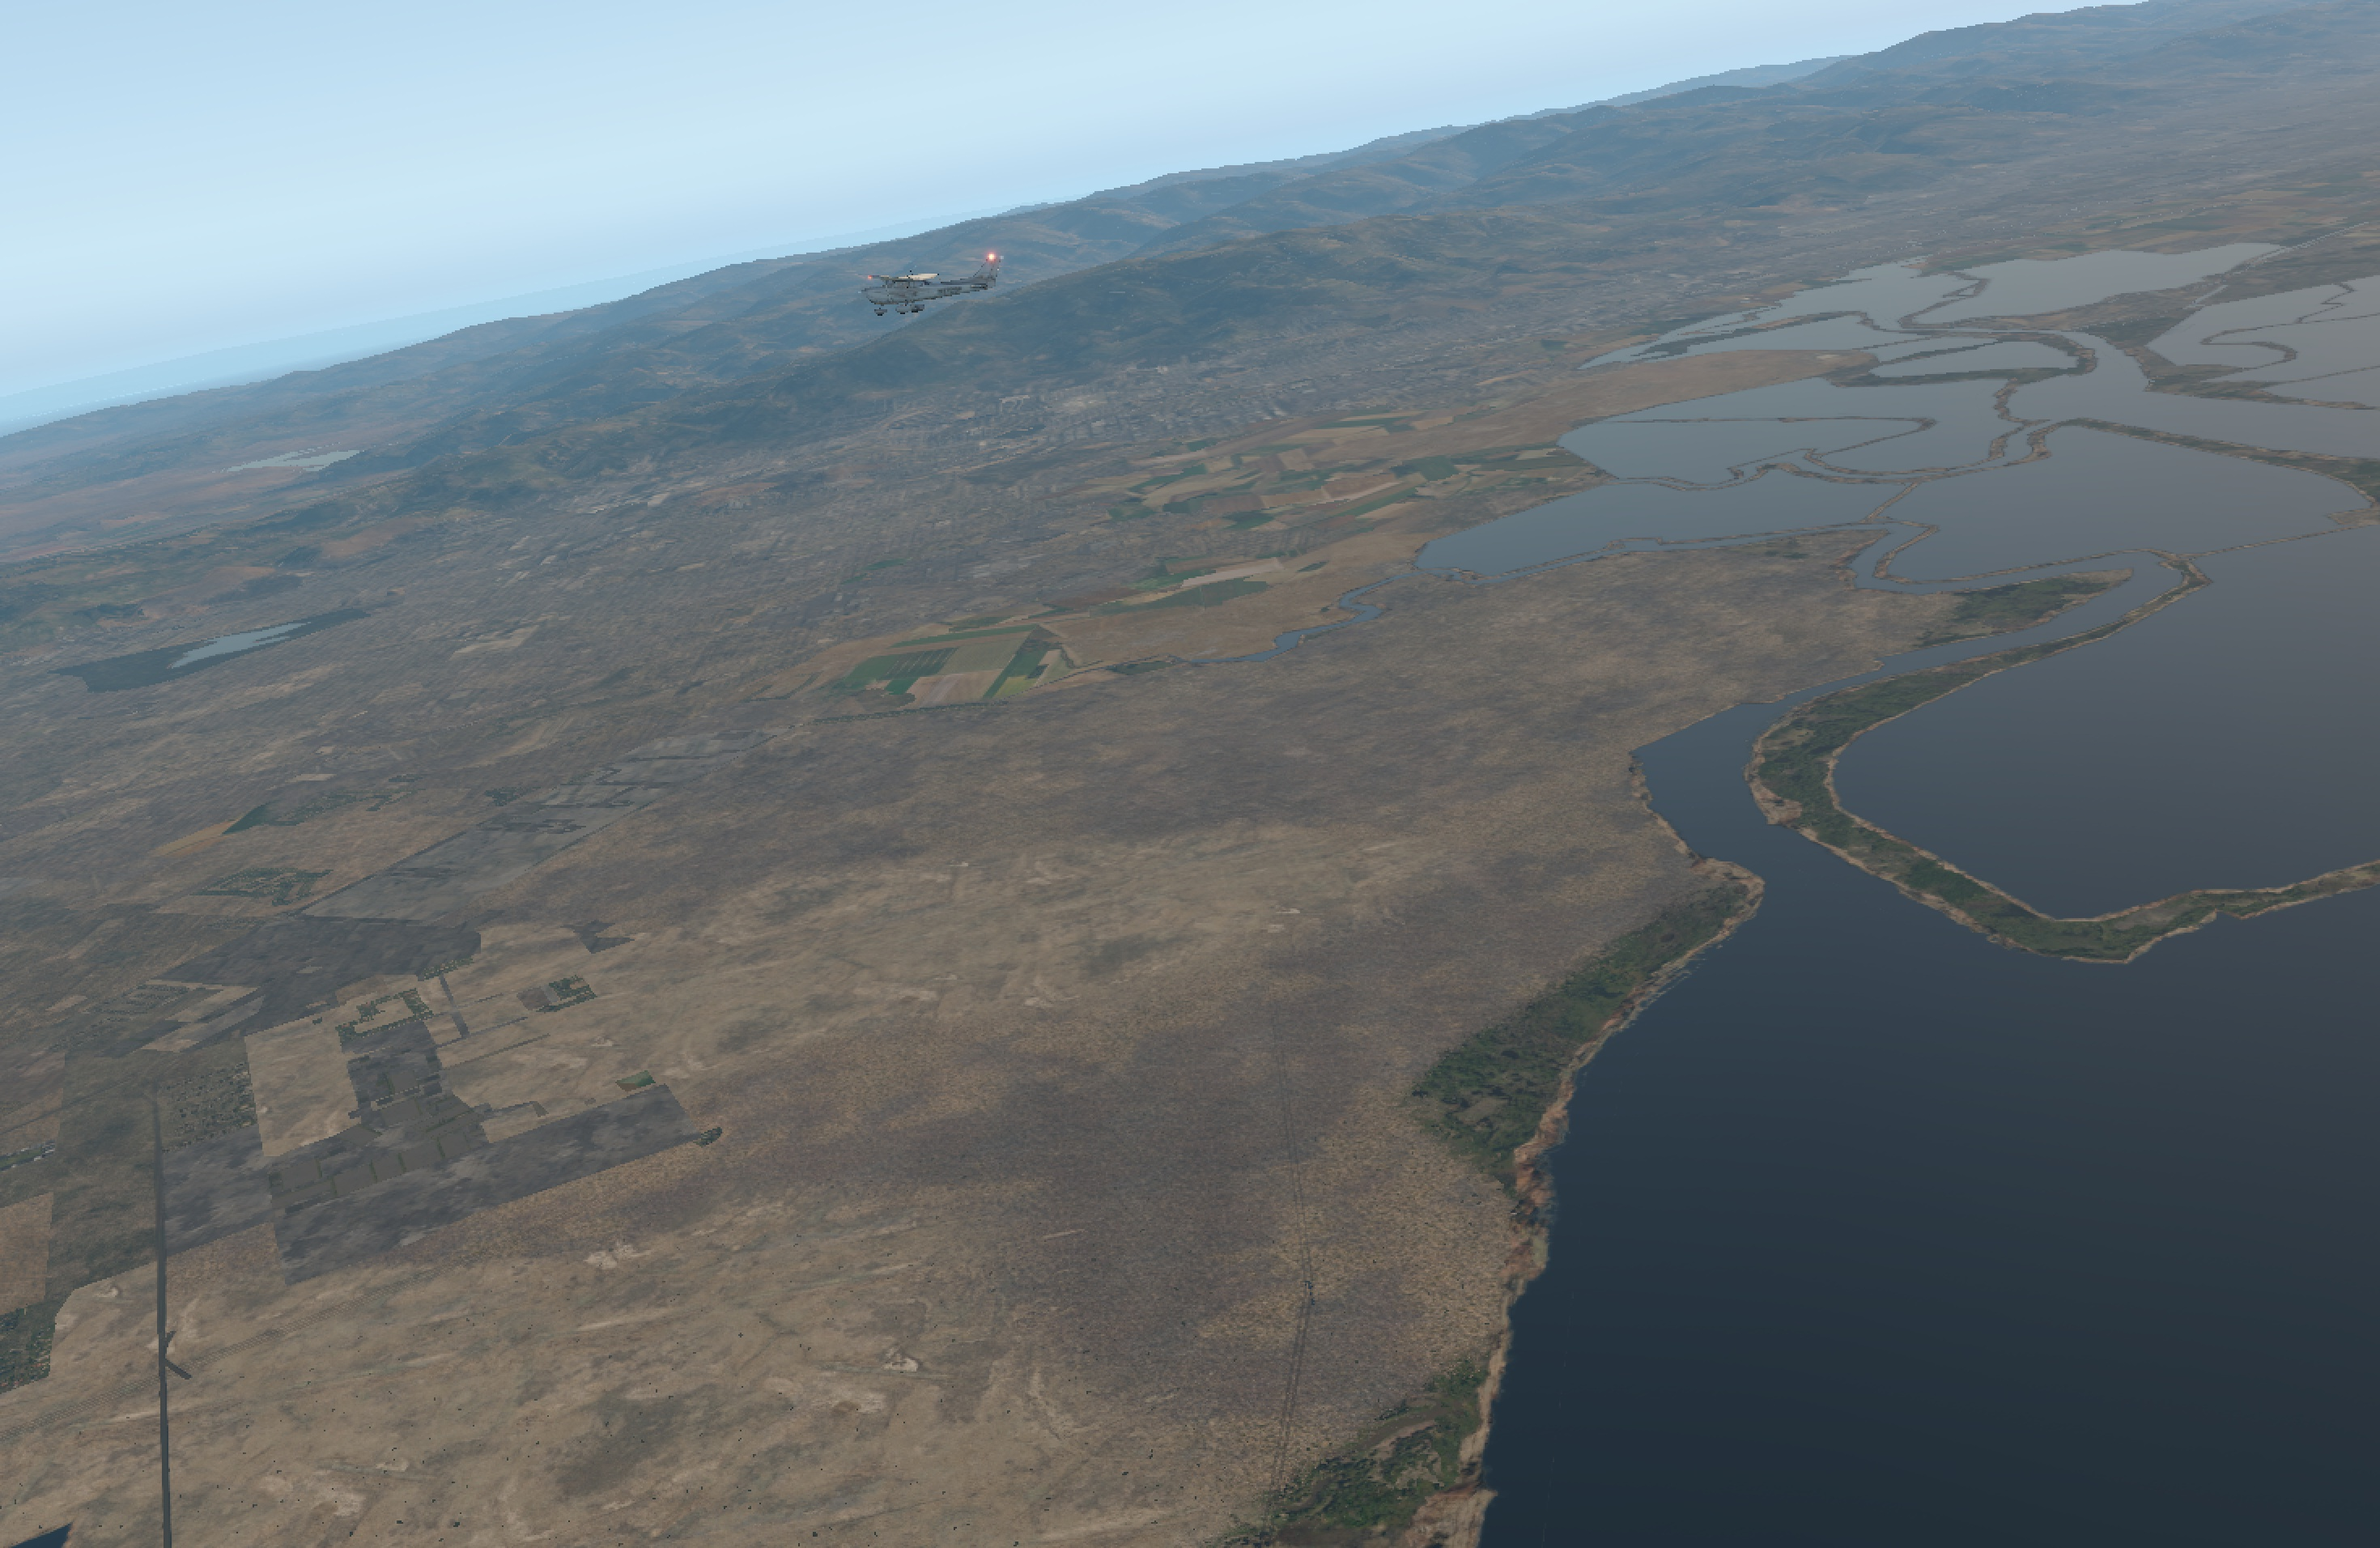aircraft: (834, 264, 970, 314)
